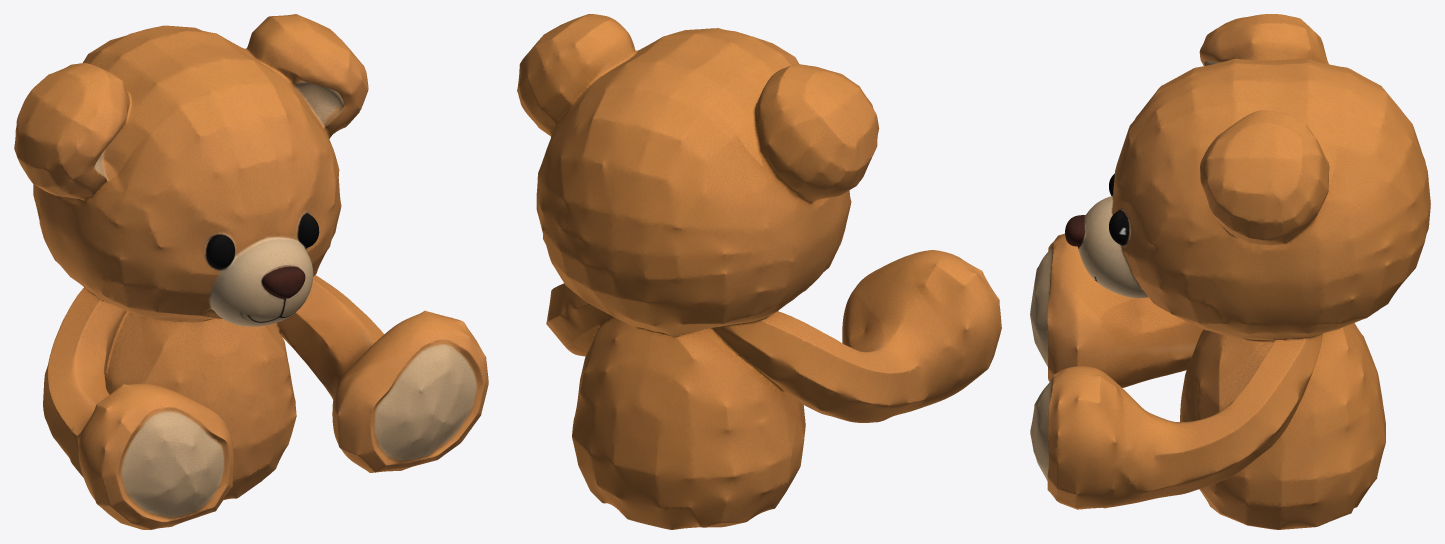
Rendered from Meshy_AI_a_teddy_bear_1009172346_texture.fbx.
3 renders of one model, left to right at view 1: azimuth 30°, elevation 25°; view 2: azimuth 150°, elevation 25°; view 3: azimuth 270°, elevation 25°, orthographic. The views are drawn at different scales.
Parts seen in each view (by area): view 1: Mesh_0; view 2: Mesh_0; view 3: Mesh_0.
Part boxes in pixels (left/top/right/bottom): Mesh_0: left=14, top=14, right=488, bottom=529; Mesh_0: left=517, top=14, right=1001, bottom=529; Mesh_0: left=1030, top=14, right=1430, bottom=529.
Size of the model in its own units: 175 by 190 by 155.
Materials: 1 (1 with a texture image).
